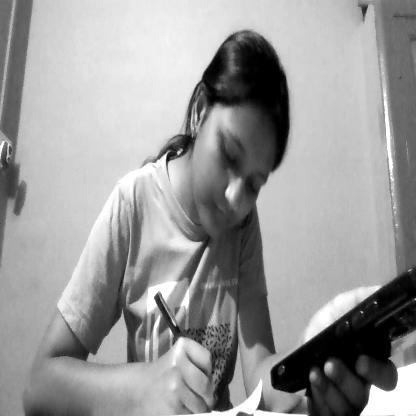Distracted: (182, 29, 287, 250)
